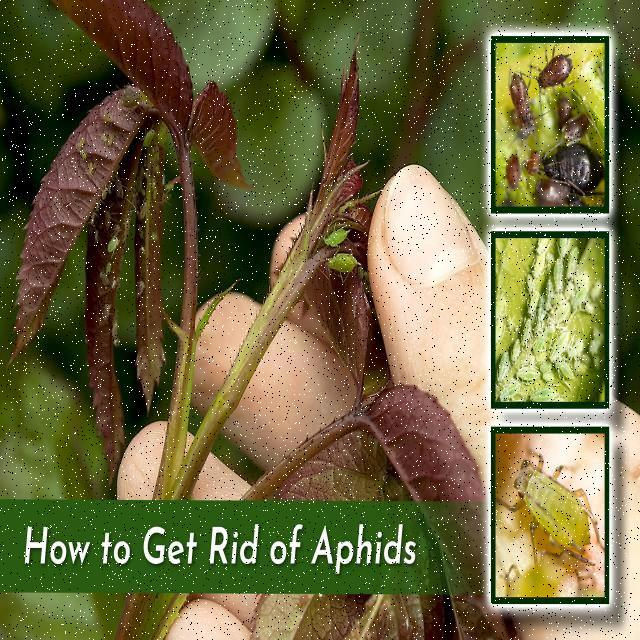Aphids: (161, 63, 219, 209), (209, 148, 243, 281), (162, 282, 181, 412), (149, 233, 184, 272), (188, 16, 225, 47)
